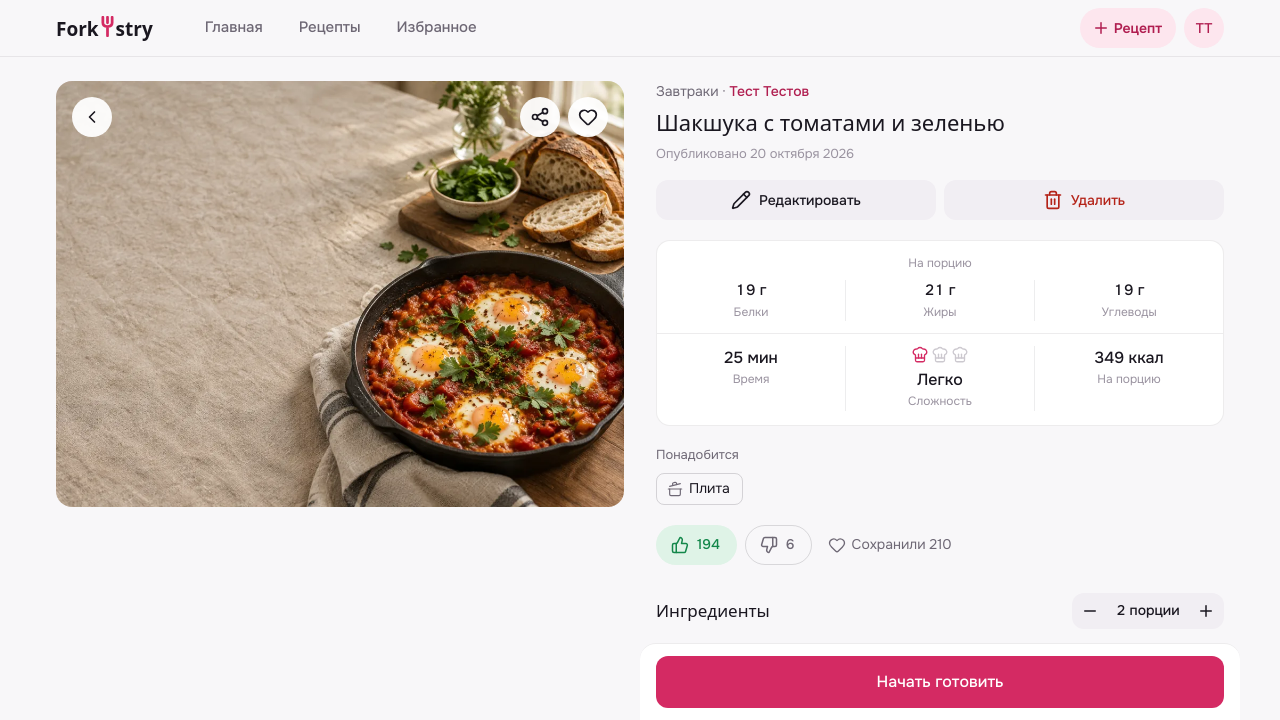
Scenario: CRUD рецепта › удаление с подтверждением
Expected: the heading "Шакшука с томатами и зеленью" is shown, [656, 107, 1005, 137]
Step 1. Click the button "Удалить" → coordinates (1084, 200), box [944, 180, 1224, 220]
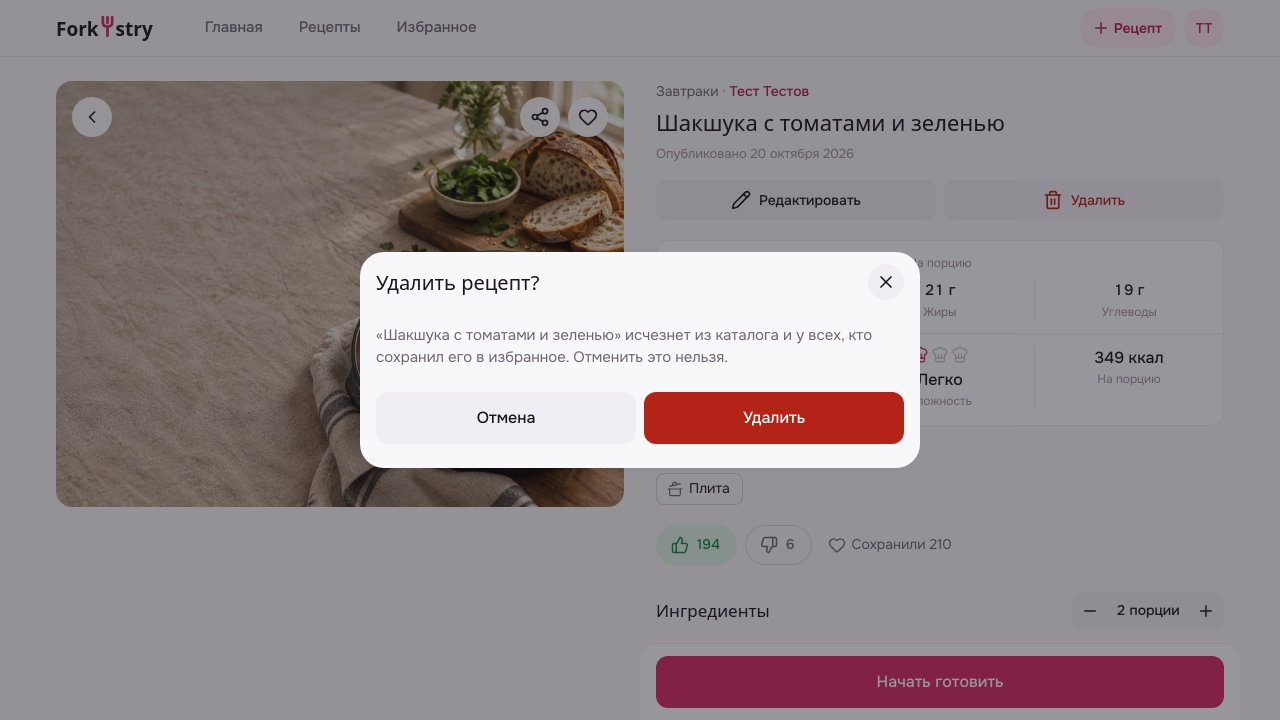
Step 2. Click the button "Отмена" → coordinates (506, 418), box [376, 392, 636, 444]
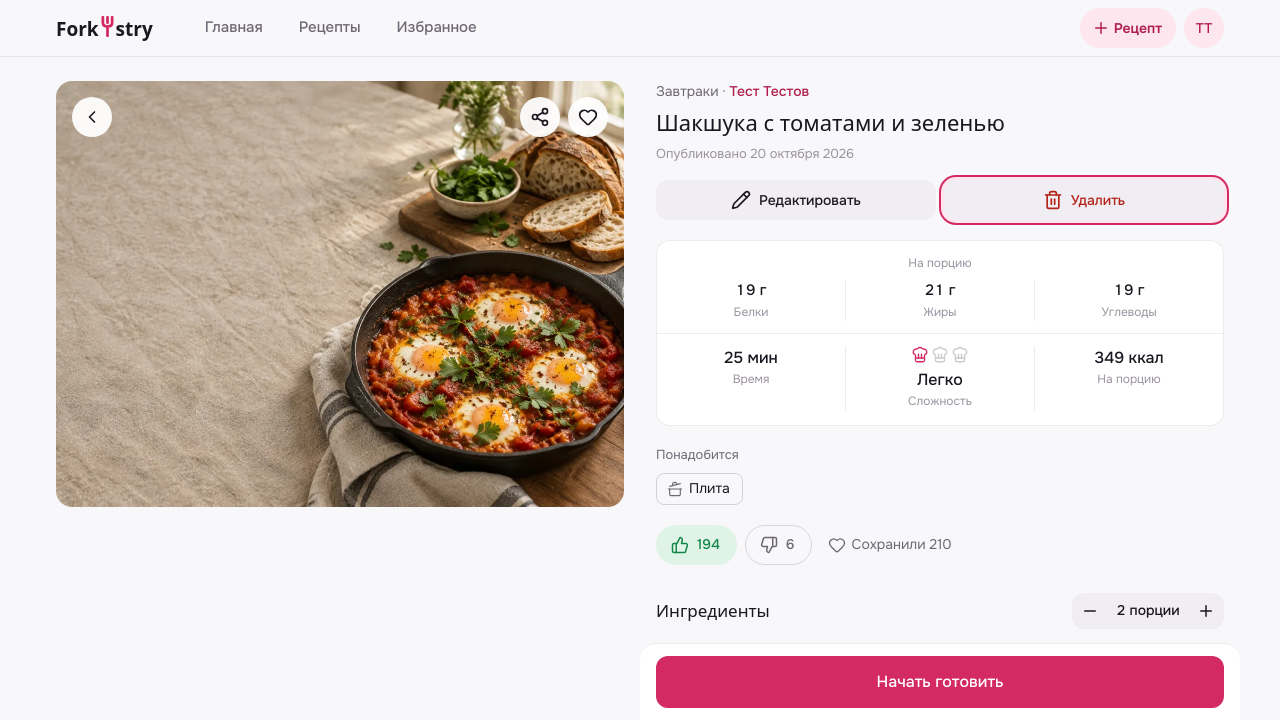
Step 3. Click the button "Удалить" → coordinates (1084, 200), box [944, 180, 1224, 220]
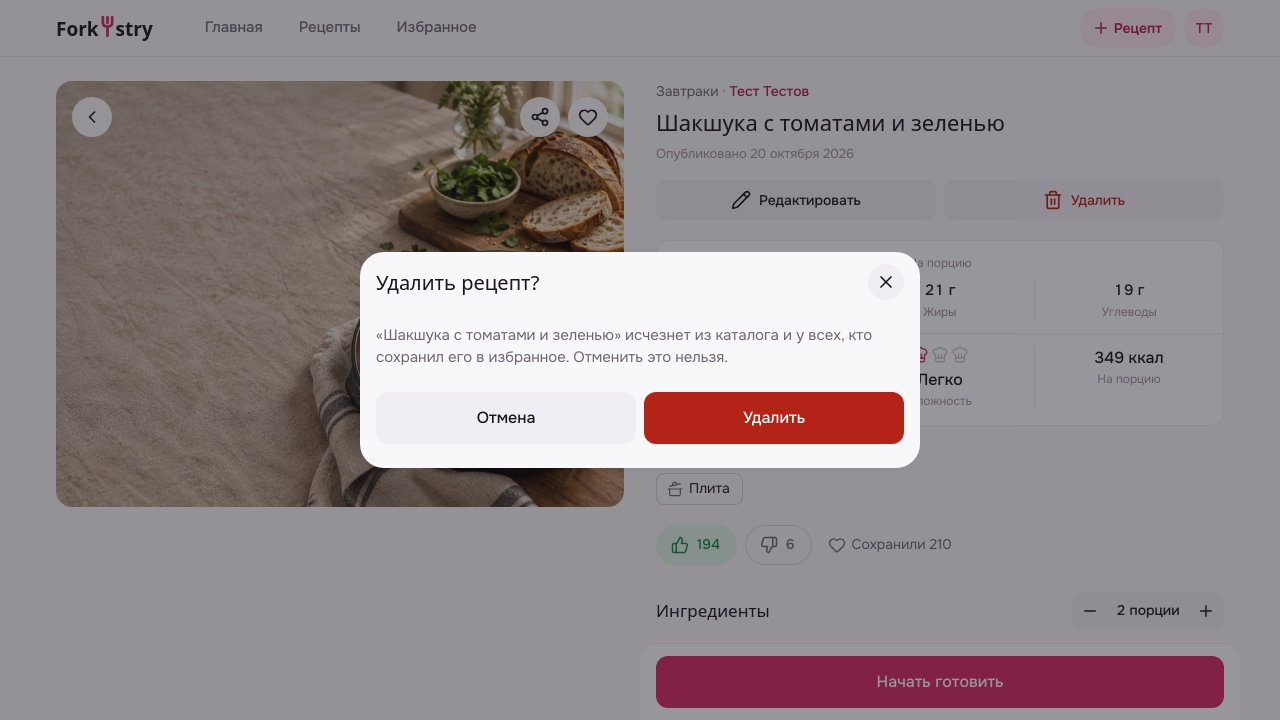
Step 4. Click the button "Удалить" → coordinates (774, 418), box [644, 392, 904, 444]
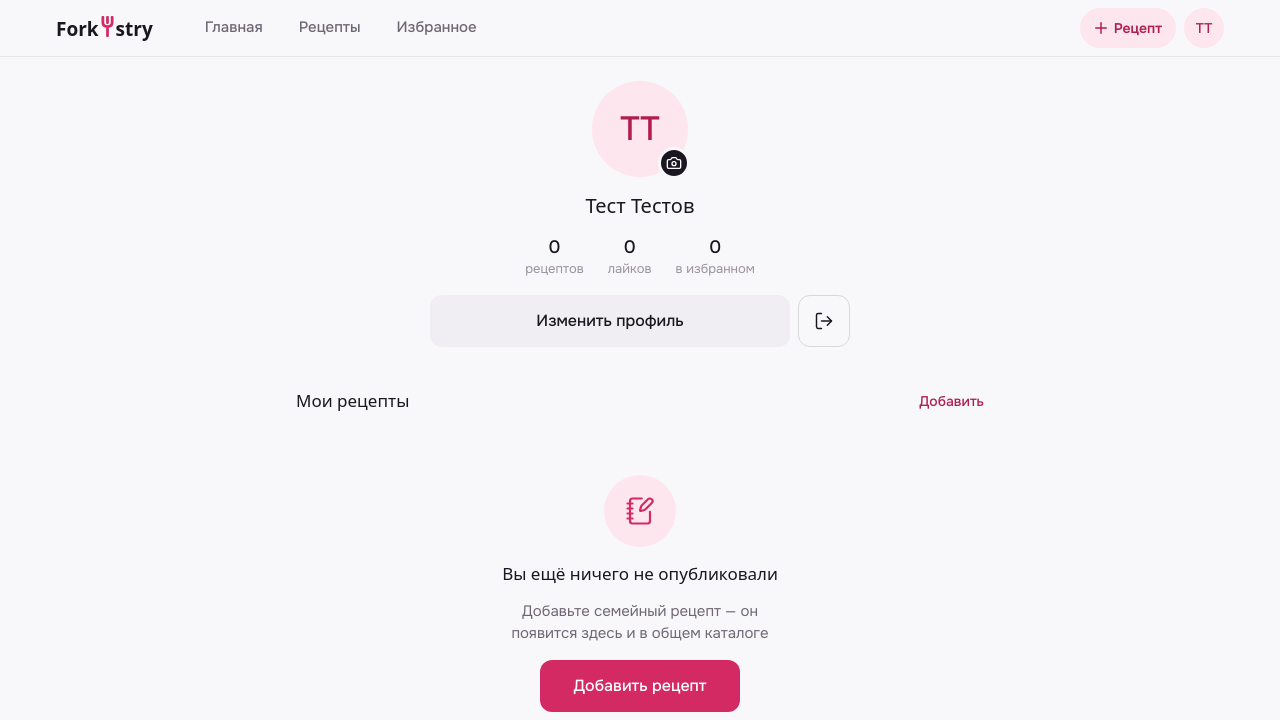
Now the heading "Мои рецепты" is shown, box [296, 390, 409, 412]
